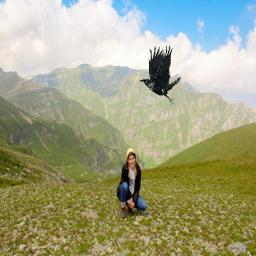Crow: (139, 44, 181, 105)
